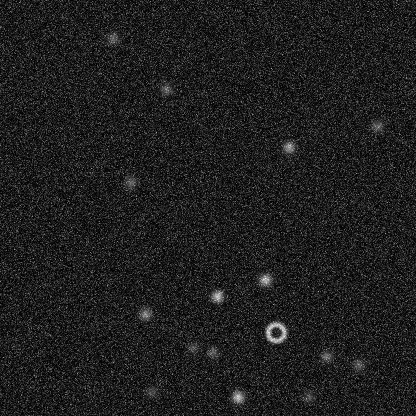Ring: (263, 320, 287, 344)
Spot: (318, 348, 334, 364), (137, 306, 153, 322), (122, 174, 138, 190), (369, 117, 385, 133), (158, 81, 174, 97), (350, 356, 366, 372), (204, 344, 220, 360), (185, 340, 201, 356), (280, 139, 296, 155), (257, 271, 273, 287), (229, 388, 245, 404), (209, 288, 225, 304), (143, 383, 159, 399), (104, 30, 120, 46), (300, 388, 316, 404)
